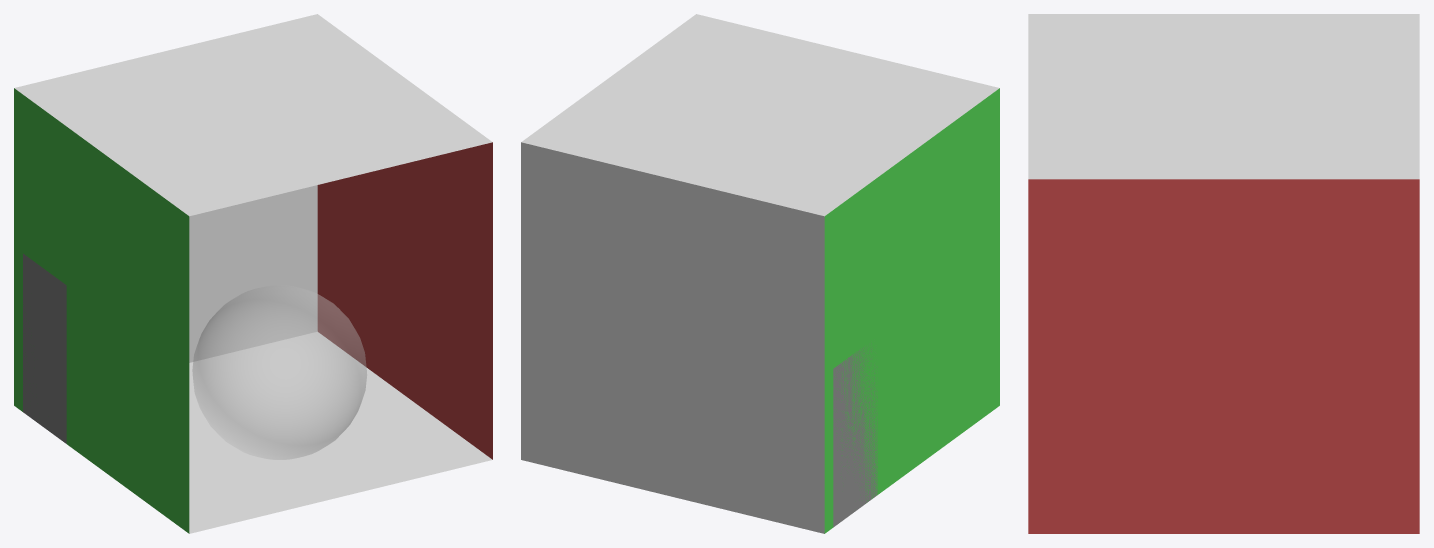
Rendered from transBoxCornellEmitterWithSphere.gltf.
3 views of the same model, side by side, from view 1: azimuth 30°, elevation 25°; view 2: azimuth 150°, elevation 25°; view 3: azimuth 270°, elevation 25° (orthographic). The views are drawn at different scales.
Parts seen in each view (by area): view 1: Ceil, LeftWall, RightWall, Floor, Sphere, BackWall, Cube; view 2: BackWall, LeftWall, Ceil, Cube; view 3: RightWall, Ceil.
Part boxes in pixels (left/top/right/bottom): Ceil: left=14, top=14, right=492, bottom=216; LeftWall: left=14, top=88, right=189, bottom=533; RightWall: left=317, top=142, right=492, bottom=459; Floor: left=189, top=331, right=492, bottom=533; Sphere: left=192, top=285, right=366, bottom=459; BackWall: left=189, top=185, right=317, bottom=362; Cube: left=23, top=253, right=66, bottom=443; BackWall: left=521, top=142, right=824, bottom=533; LeftWall: left=824, top=88, right=999, bottom=533; Ceil: left=521, top=14, right=999, bottom=216; Cube: left=833, top=343, right=877, bottom=527; RightWall: left=1028, top=179, right=1419, bottom=533; Ceil: left=1028, top=14, right=1419, bottom=179.
Bounding box in the file's own units: 4 × 4 × 4.
